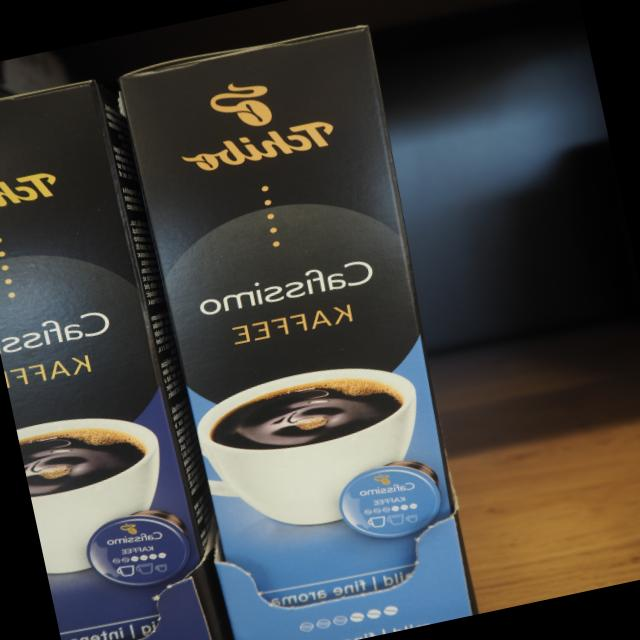Simo Kaffee Kraft: (0, 71, 221, 640)
Simo Kaffee Mild: (111, 20, 485, 640)
